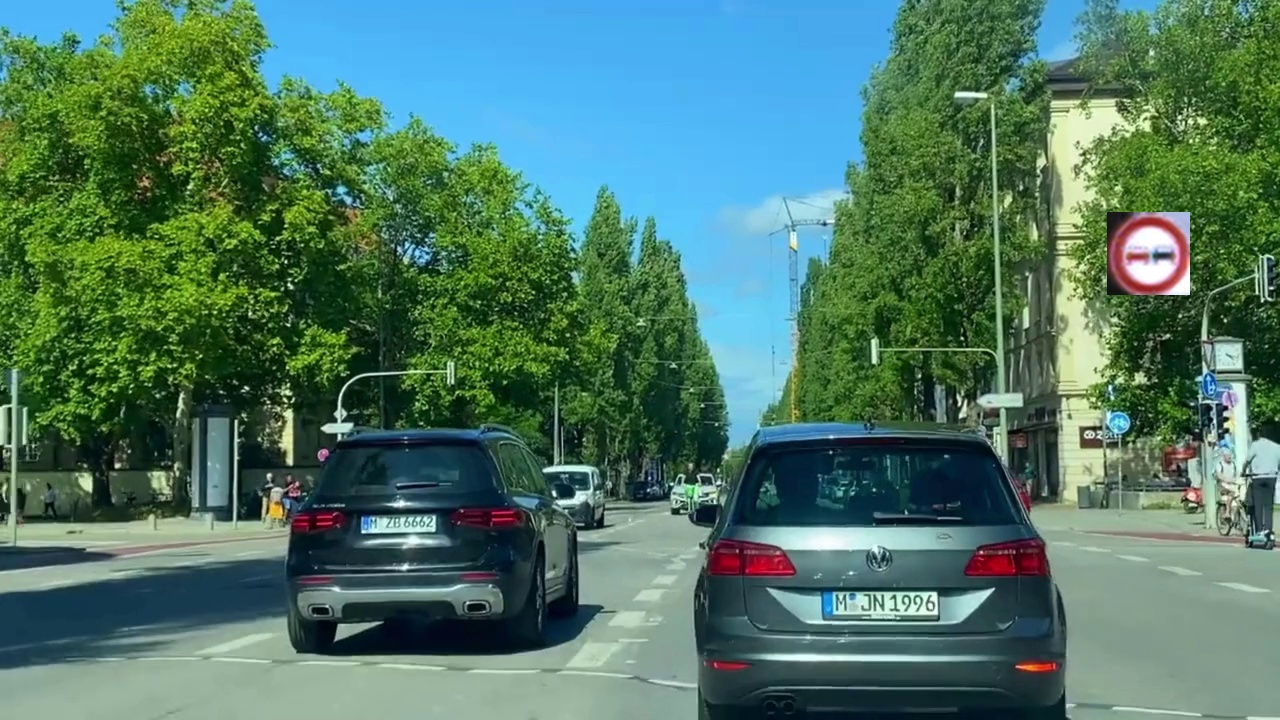No passing: (1107, 212, 1190, 295)
